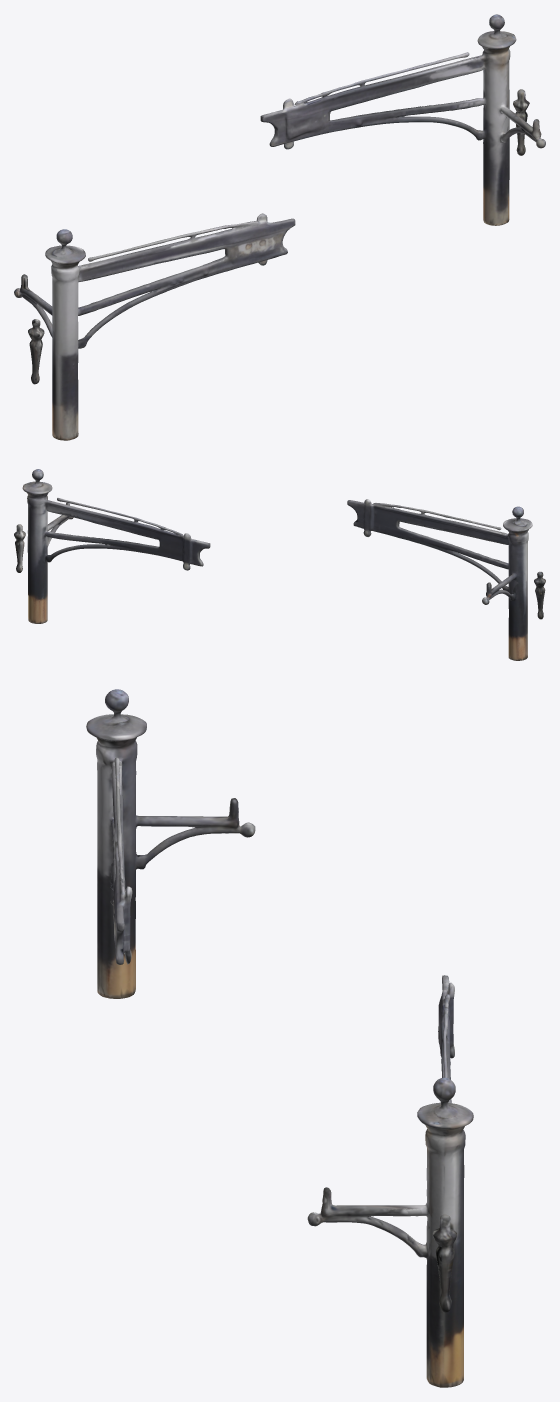
The model's file is downtown_archway.glb.
The picture shows the model from 3 angles, top to bottom: view 1: azimuth 30°, elevation 25°; view 2: azimuth 150°, elevation 25°; view 3: azimuth 270°, elevation 25°; orthographic projection. The views are drawn at different scales.
Bounding box in the file's own units: 2 × 0.6436 × 0.7486.
1 material, 1 textured.
